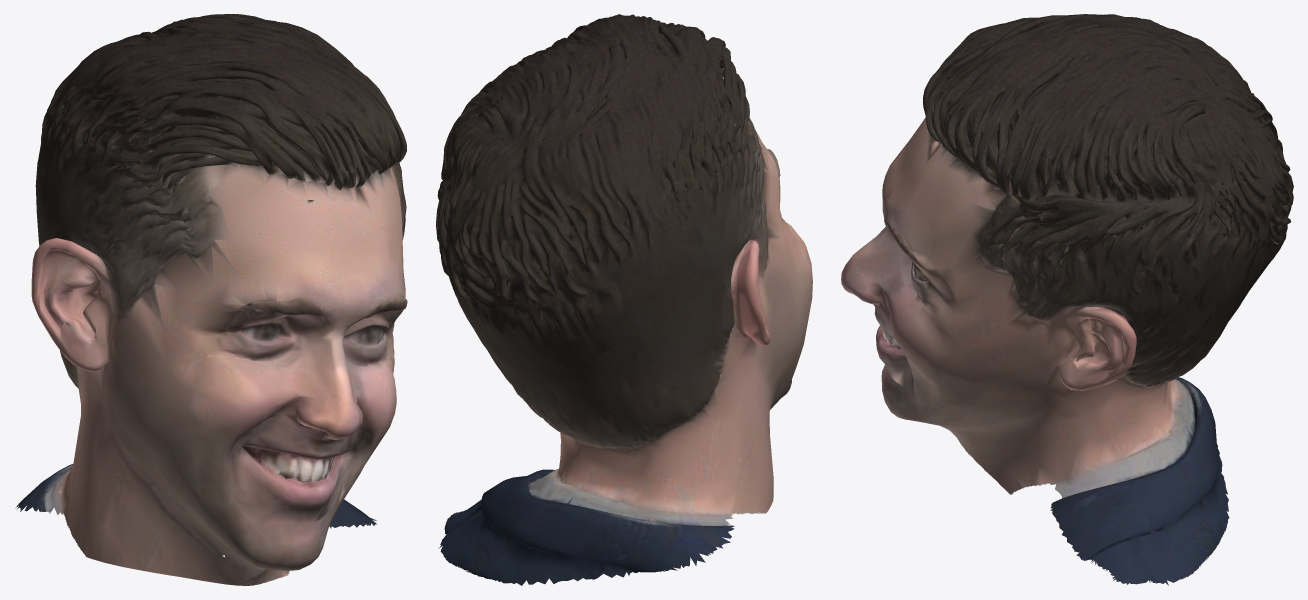
The model's file is head_benja.glb.
The picture shows the model from 3 angles, left to right: view 1: azimuth 30°, elevation 25°; view 2: azimuth 150°, elevation 25°; view 3: azimuth 270°, elevation 25°; orthographic projection. The views are drawn at different scales.
Parts seen in each view (by area): view 1: Mesh_0; view 2: Mesh_0; view 3: Mesh_0.
Part boxes in pixels (bbox=[...]): Mesh_0: bbox=[15, 14, 407, 585]; Mesh_0: bbox=[436, 14, 812, 585]; Mesh_0: bbox=[841, 14, 1293, 585].
Size of the model in its own units: 0.8646 by 1.33 by 1.11.
1 material, 1 textured.
